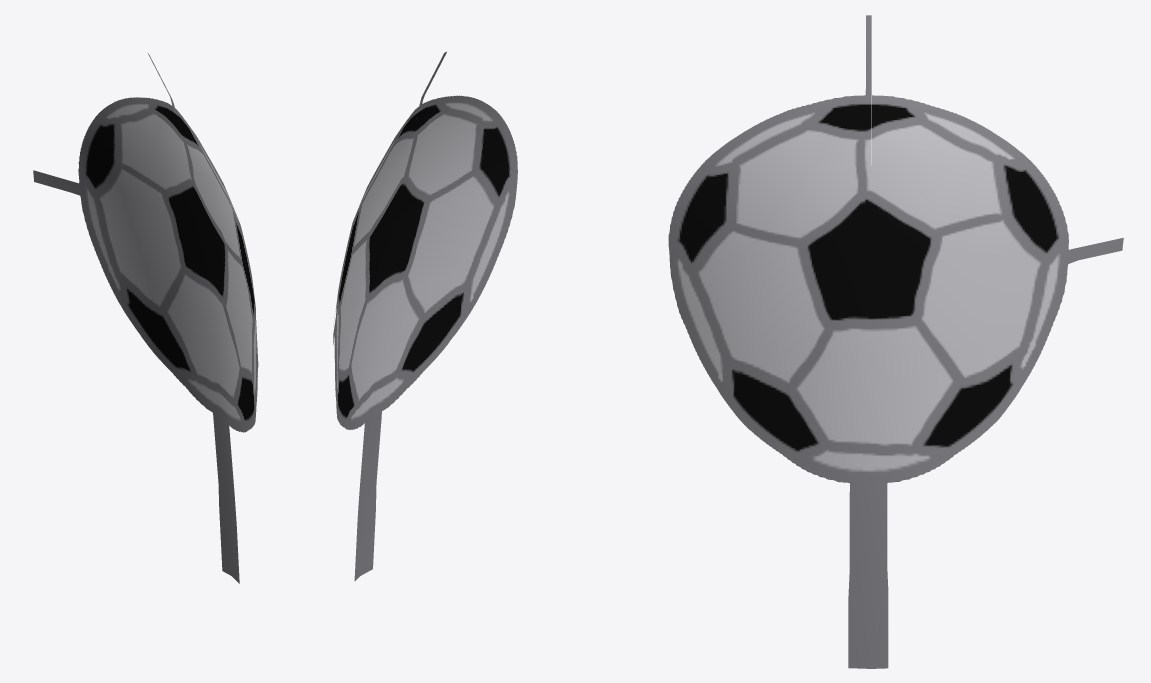
Rendered from Soccer.fbx.
3 views of the same model, side by side, from view 1: azimuth 30°, elevation 25°; view 2: azimuth 150°, elevation 25°; view 3: azimuth 270°, elevation 25° (orthographic). The views are drawn at different scales.
Parts seen in each view (by area): view 1: Soccer; view 2: Soccer; view 3: Soccer.
Part boxes in pixels (<box>): Soccer: <box>33,53,258,583</box>; Soccer: <box>333,51,517,581</box>; Soccer: <box>668,15,1123,668</box>.
Bounding box in the file's own units: 15 × 71.33 × 56.36.
